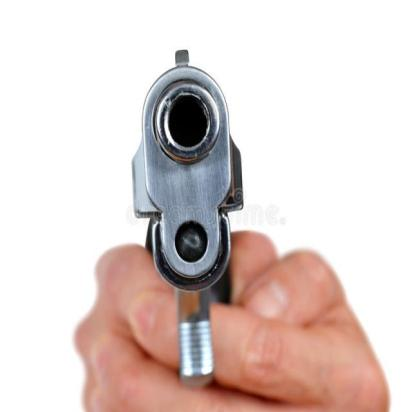Gun: (110, 41, 274, 412)
